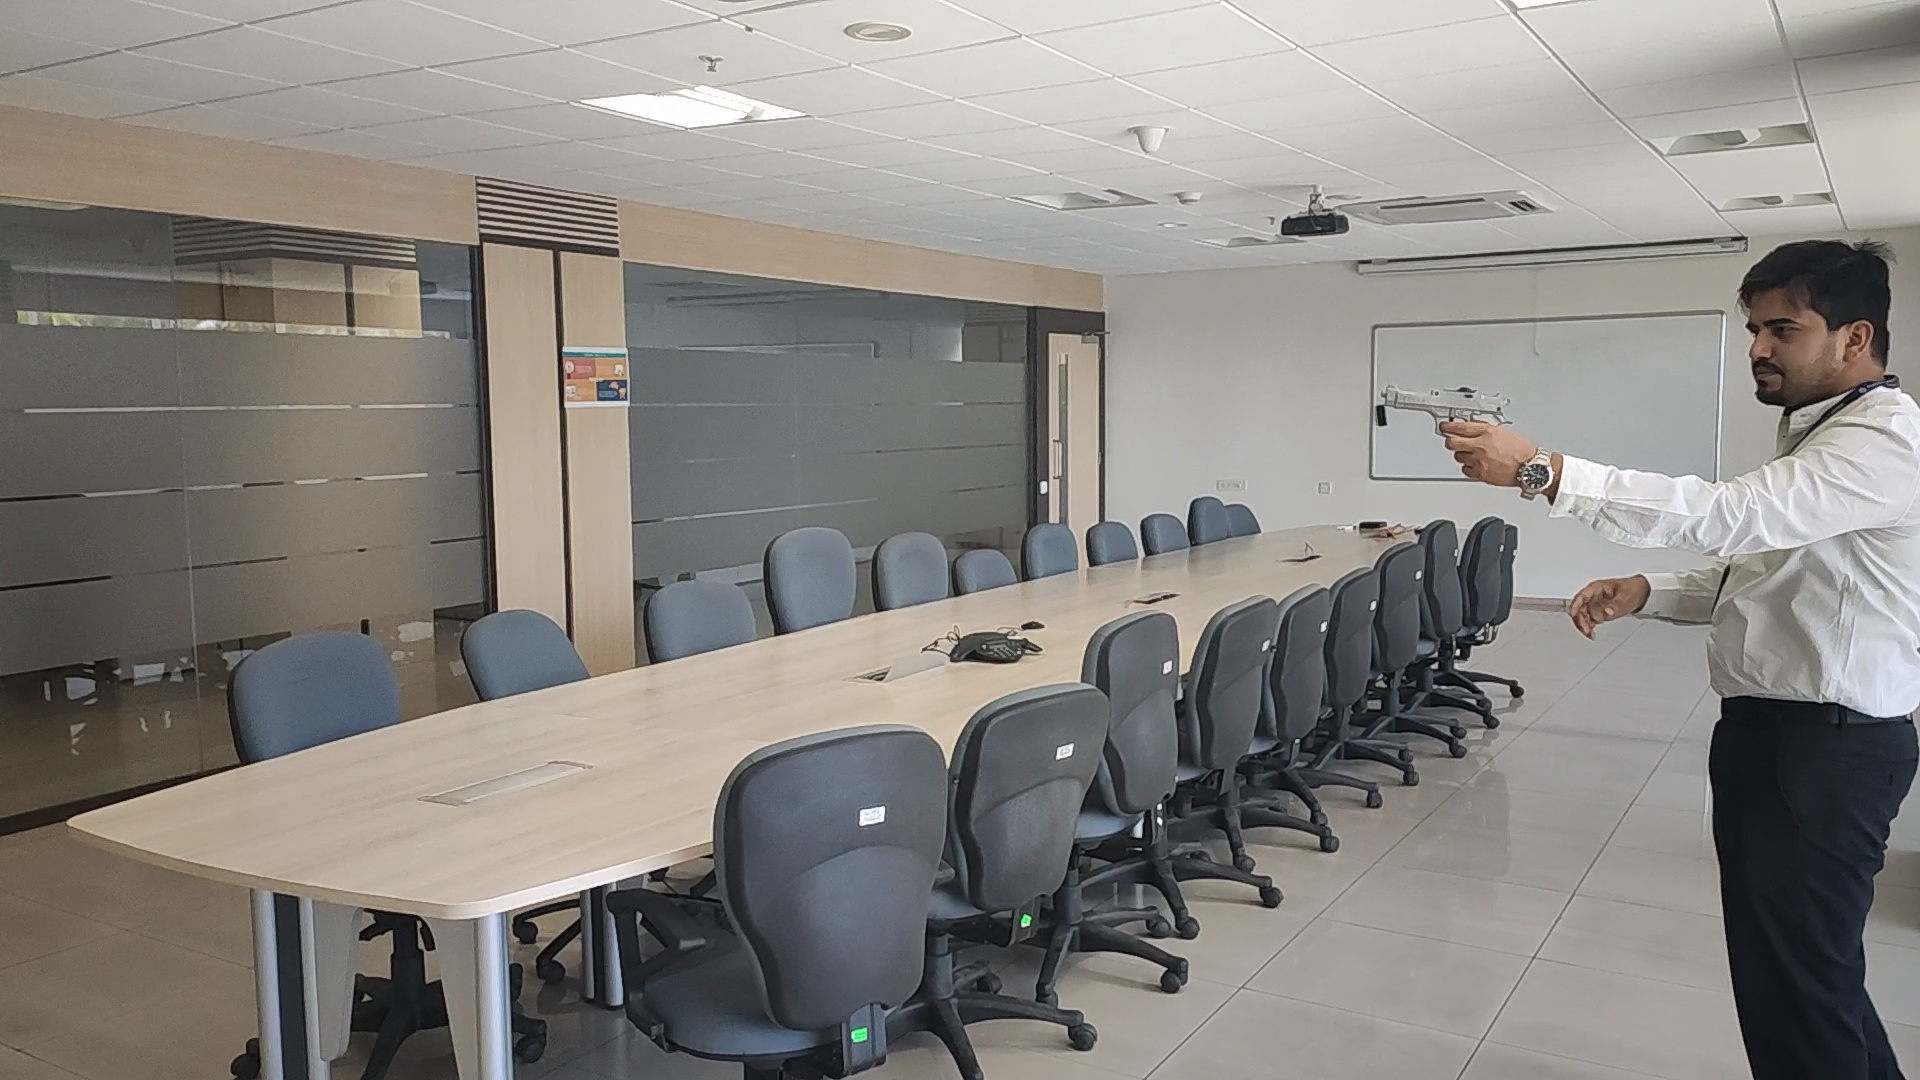gun: (1379, 382, 1509, 425)
